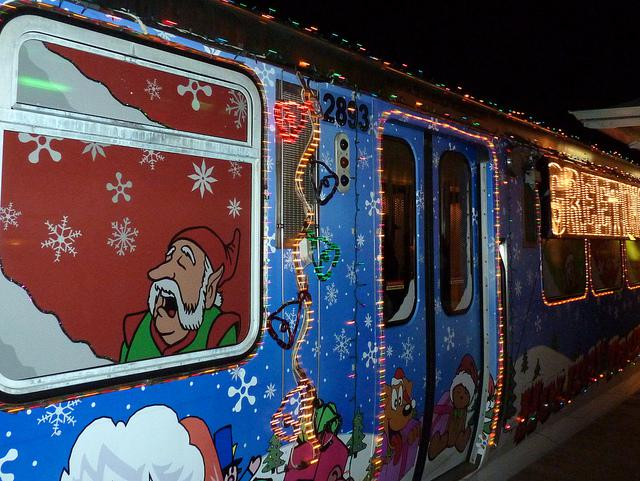Train: (3, 3, 640, 476)
